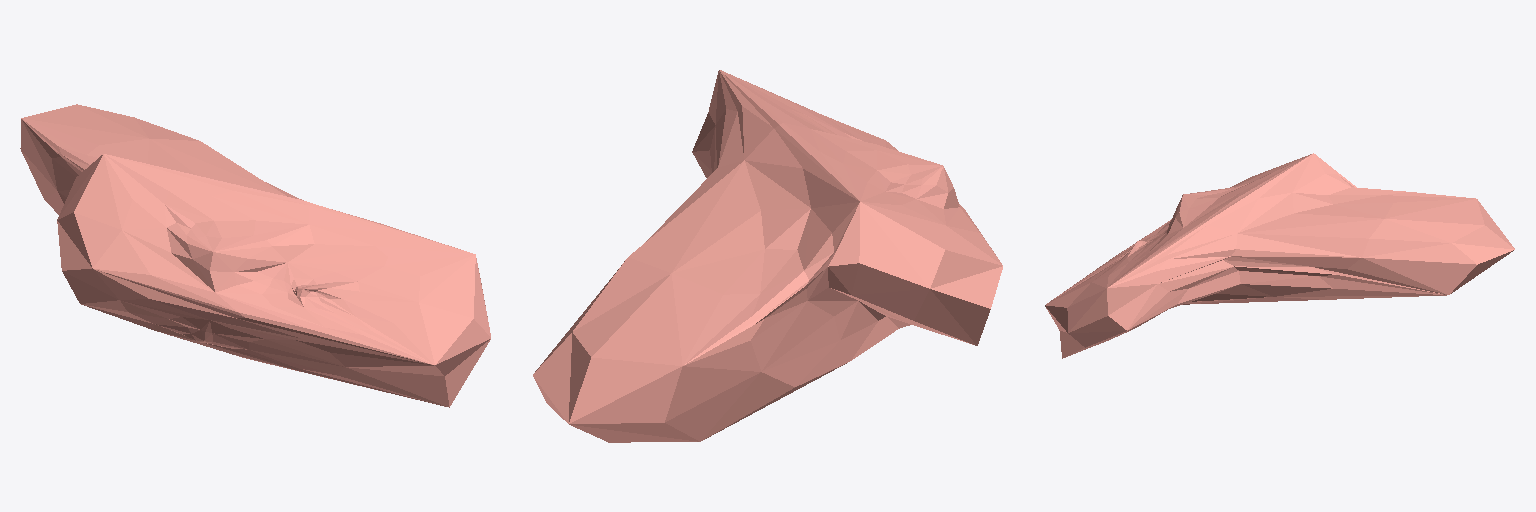
robot.urdf — blob018:

<robot name="blob018">
  <link name="random_obj_018">
    <contact>
      <lateral_friction value="1.0"/>
      <rolling_friction value="0.0"/>
      <inertia_scaling value="3.0"/>
      <contact_cfm value="0.0"/>
      <contact_erp value="1.0"/>
    </contact>
    <inertial>
      <origin rpy="0 0 0" xyz="0 0 0"/>
      <mass value="0.0771"/>
      <inertia ixx="1" ixy="0" ixz="0" iyy="1" iyz="0" izz="0"/>
    </inertial>
    <visual>
      <origin rpy="0 0 0" xyz="0 0 0"/>
      <geometry>
        <mesh filename="018.obj" scale="0.0081 0.0081 0.0081"/>
      </geometry>
      <material name="blockmat">
        <color rgba="0.99 0.70 0.66 1"/>
      </material>
    </visual>
    <collision>
      <origin rpy="0 0 0" xyz="0 0 0"/>
      <geometry>
        <mesh filename="018_coll.obj" scale="0.0081 0.0081 0.0081"/>
      </geometry>
    </collision>
  </link>
</robot>

--- Render facts (derived) ---
3 views of the same robot in one strip: view 1: azimuth 30°, elevation 25°; view 2: azimuth 150°, elevation 25°; view 3: azimuth 270°, elevation 25° (orthographic).
Model blob018 with 1 links and 0 joints (none), rooted at random_obj_018, posed all joints at 0.
Links seen in each view (by area): view 1: random_obj_018; view 2: random_obj_018; view 3: random_obj_018.
Boxes of the visible links, bbox=[...] form: random_obj_018: bbox=[20, 104, 490, 407]; random_obj_018: bbox=[533, 70, 1002, 442]; random_obj_018: bbox=[1045, 153, 1514, 358].
Size in the robot's own frame: 0.0771 by 0.1308 by 0.0421 metres.
Meshes: 1 distinct files referenced, 1 mesh visuals loaded (1 OBJ).
